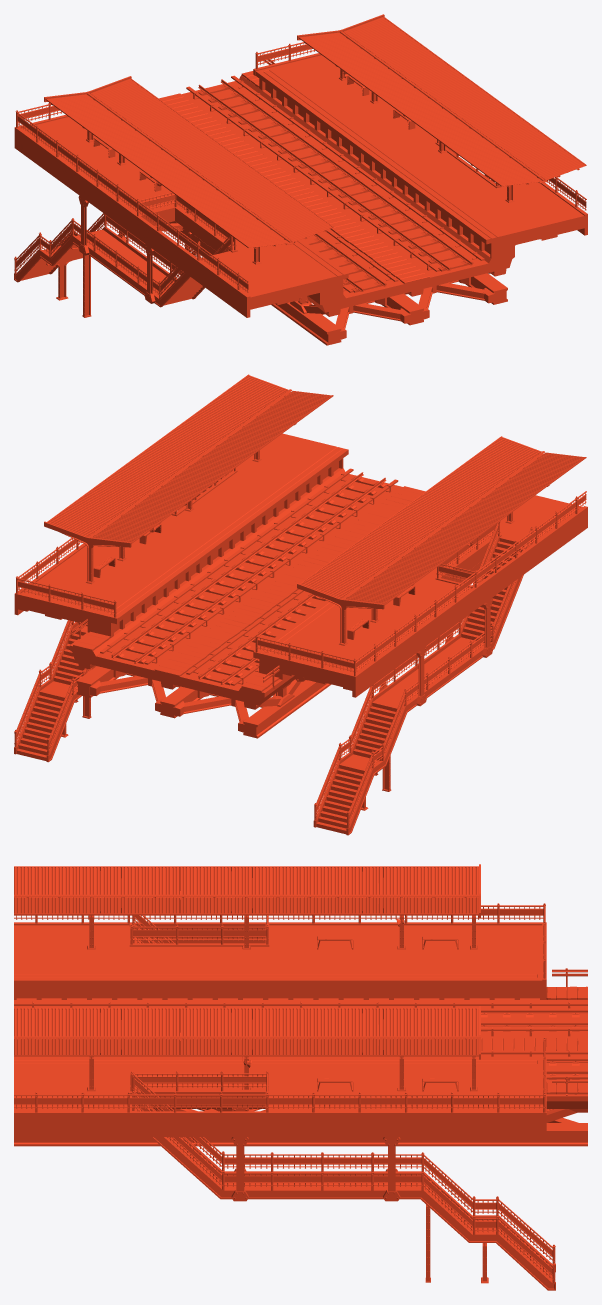
File: SM_Rails_Overground_Station_A_City.fbx
3 views of the same model, one above another, from view 1: azimuth 30°, elevation 25°; view 2: azimuth 150°, elevation 25°; view 3: azimuth 270°, elevation 25° (orthographic). The views are drawn at different scales.
Parts seen in each view (by area): view 1: SM_Rails_Overground_Station_A_City; view 2: SM_Rails_Overground_Station_A_City; view 3: SM_Rails_Overground_Station_A_City.
Part boxes in pixels (box(x1,y1,x2,y2)): SM_Rails_Overground_Station_A_City: box(14, 14, 587, 345); SM_Rails_Overground_Station_A_City: box(14, 374, 587, 835); SM_Rails_Overground_Station_A_City: box(14, 864, 587, 1290).
Size of the model in its own units: 23.64 by 13.71 by 30.
